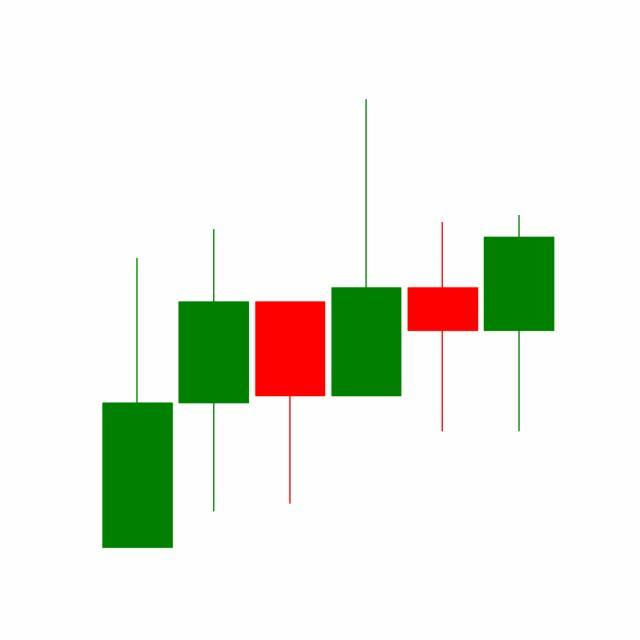Spinning Top: (404, 221, 482, 436)
